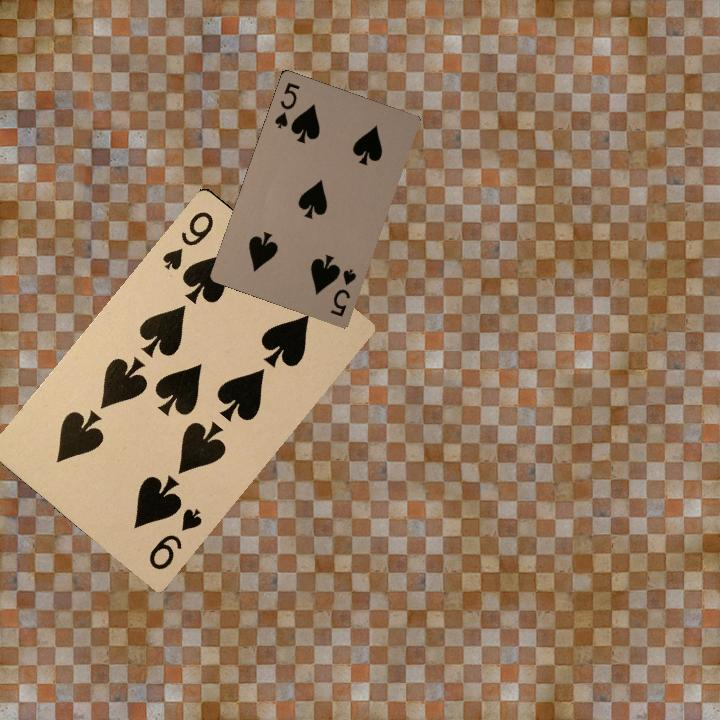5s: (326, 264, 359, 319), (270, 78, 302, 131)
9s: (144, 504, 205, 573), (158, 207, 217, 273)
